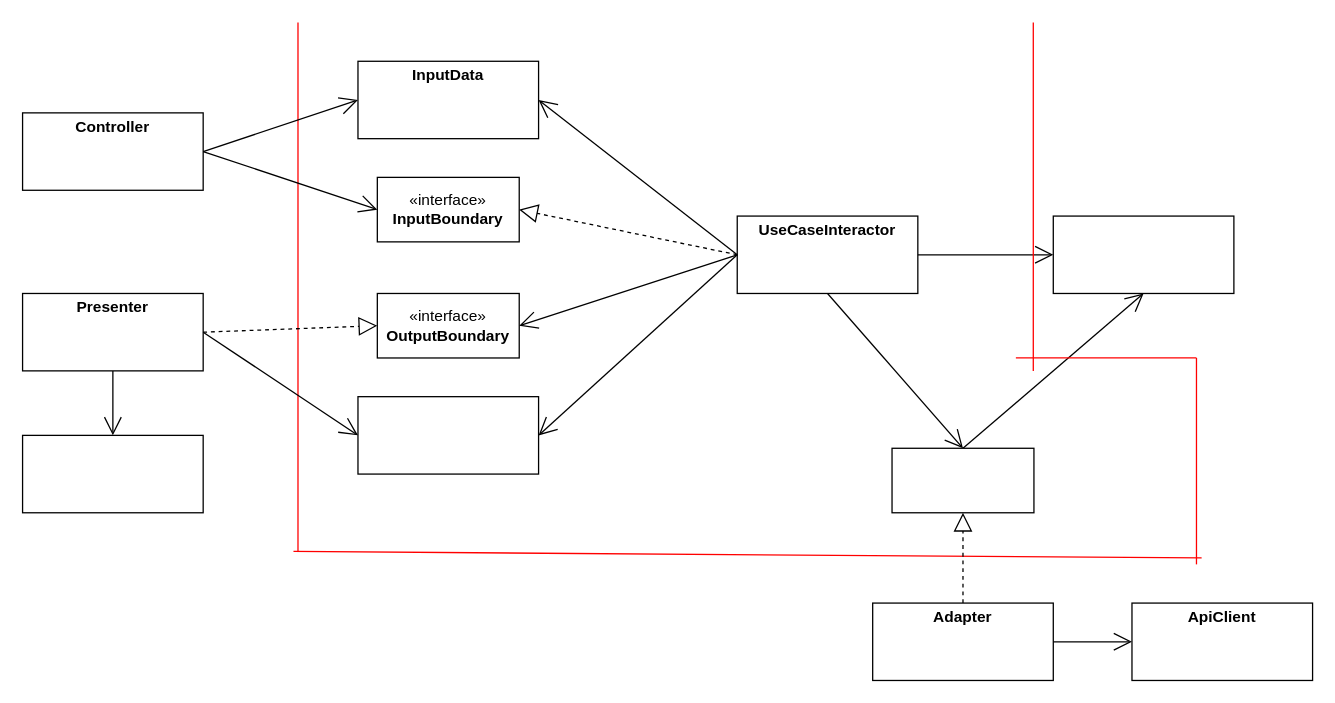
Image size: 1335x703. Some labels were removed from this diagram. The shapes that lost their labels are listed below. From the top down, each one's centre as x and y in pixels, then its label:
[1143,254]: Entities
[448,434]: OutputData
[112,473]: View / Page
[962,480]: «interface» DataAccesInterface
